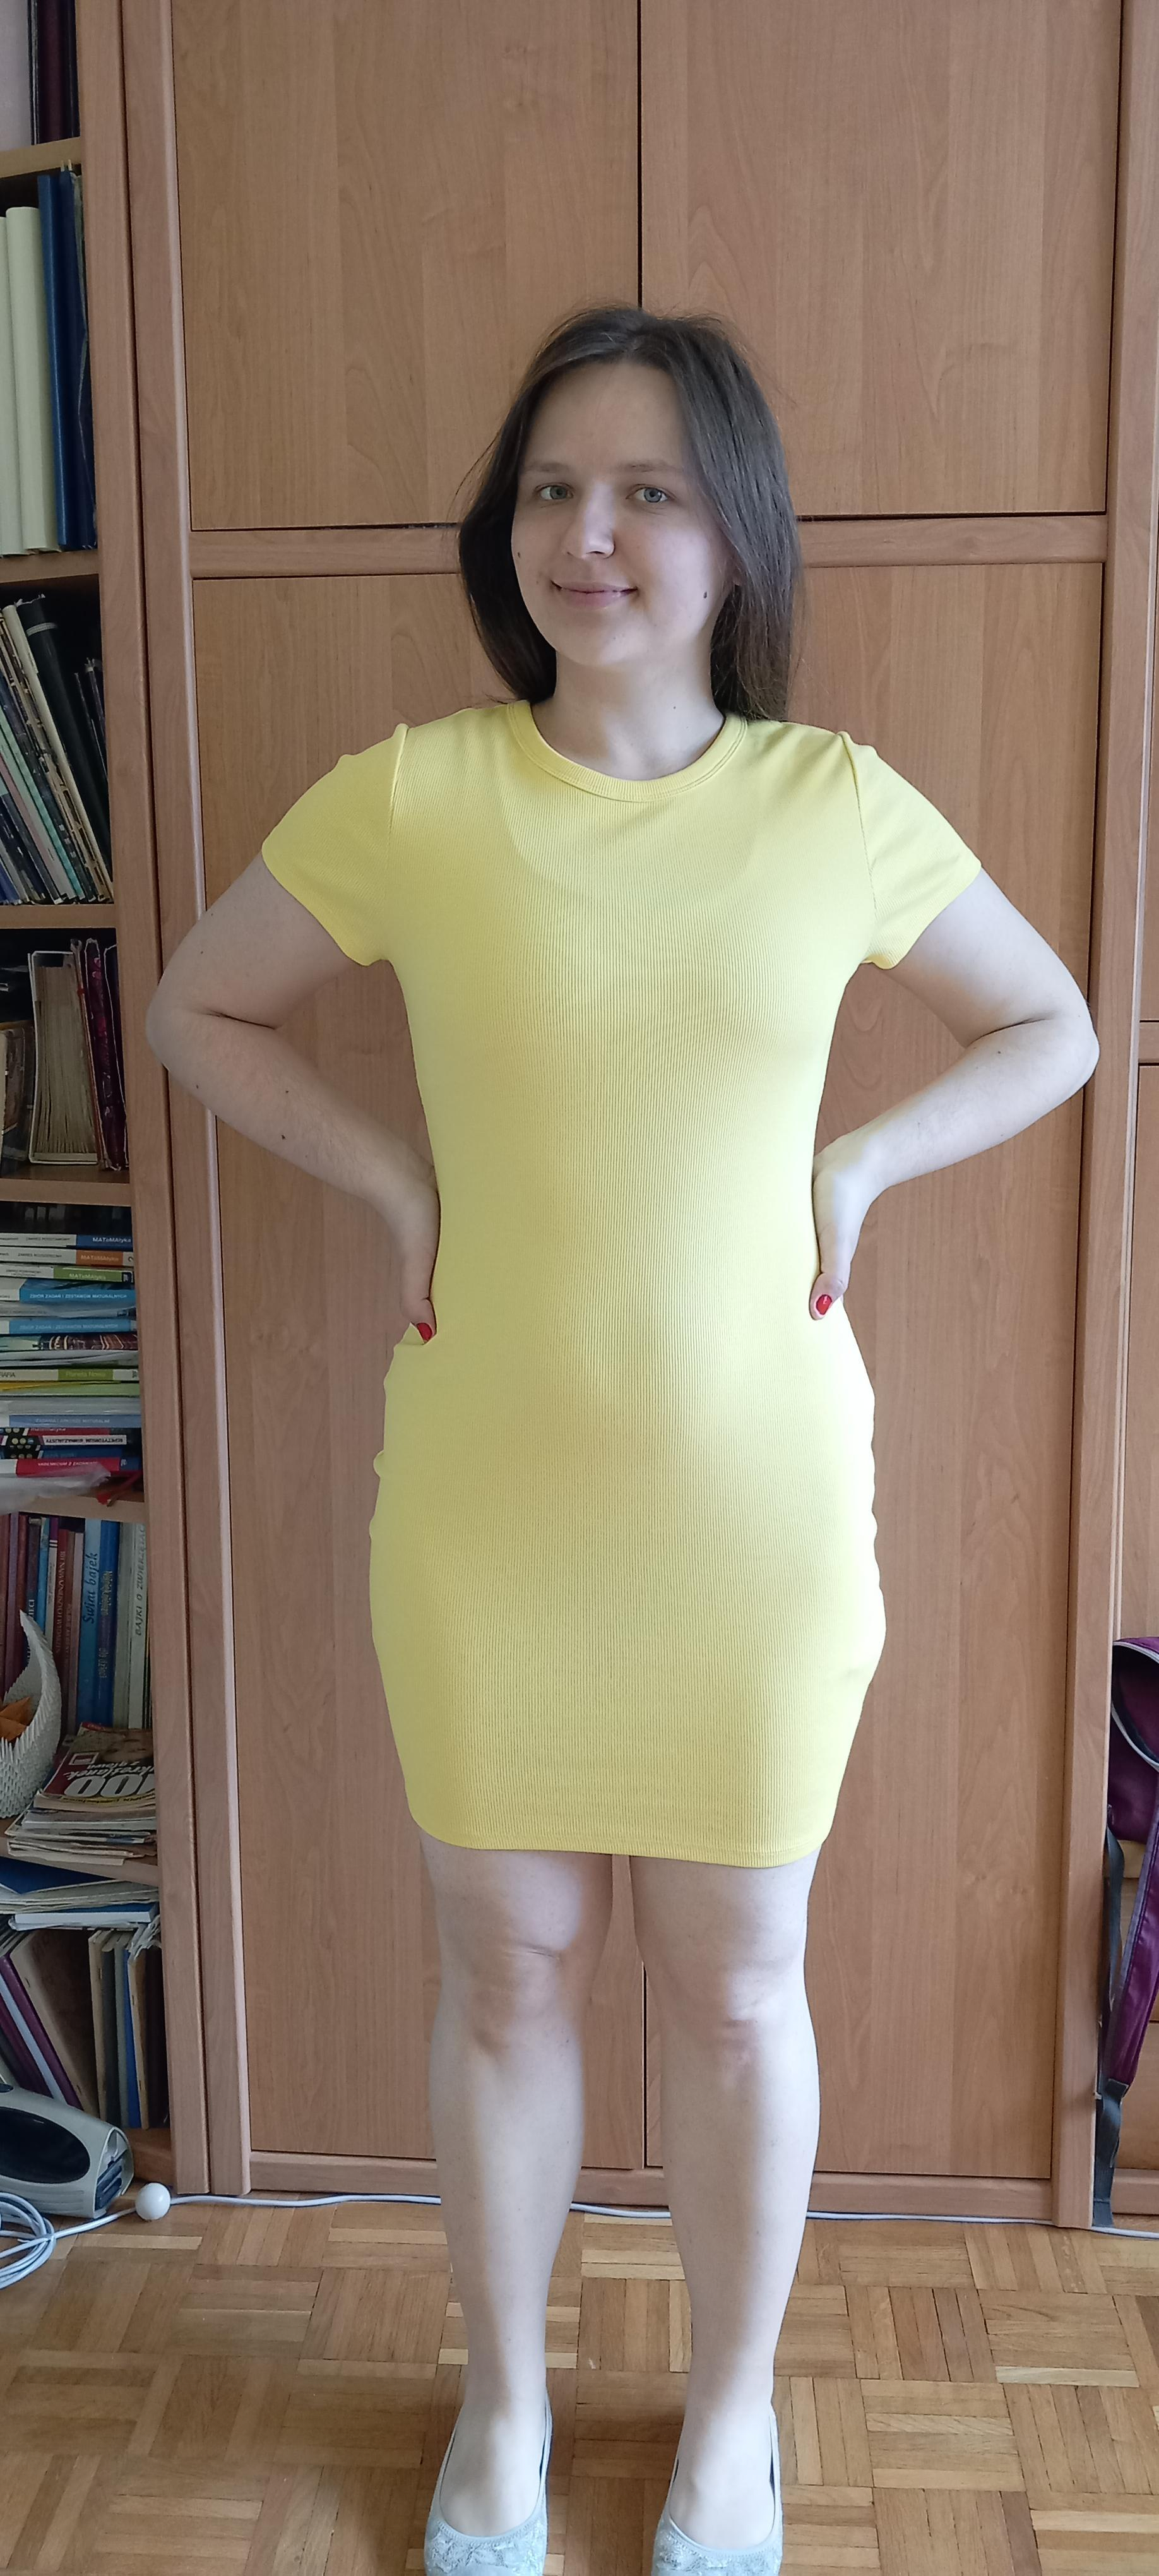dress: (261, 700, 985, 1870)
